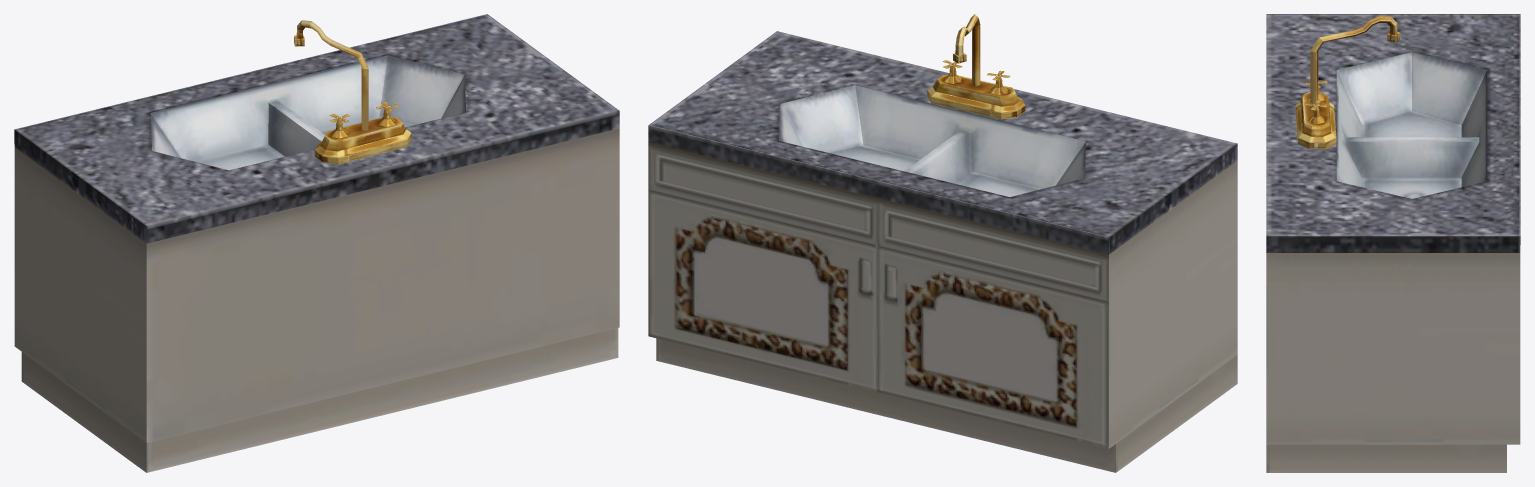
Rendered from furni_0200089.FBX.
3 views of the same model, side by side, from view 1: azimuth 30°, elevation 25°; view 2: azimuth 150°, elevation 25°; view 3: azimuth 270°, elevation 25° (orthographic). The views are drawn at different scales.
Visible parts, largest first — view 1: furni_0200089; view 2: furni_0200089; view 3: furni_0200089.
Part boxes in pixels (bbox=[...]): furni_0200089: bbox=[14, 14, 619, 472]; furni_0200089: bbox=[648, 14, 1237, 472]; furni_0200089: bbox=[1266, 14, 1520, 472].
Bounding box in the file's own units: 161 × 115 × 77.72.
Materials: 1 (1 with a texture image).
